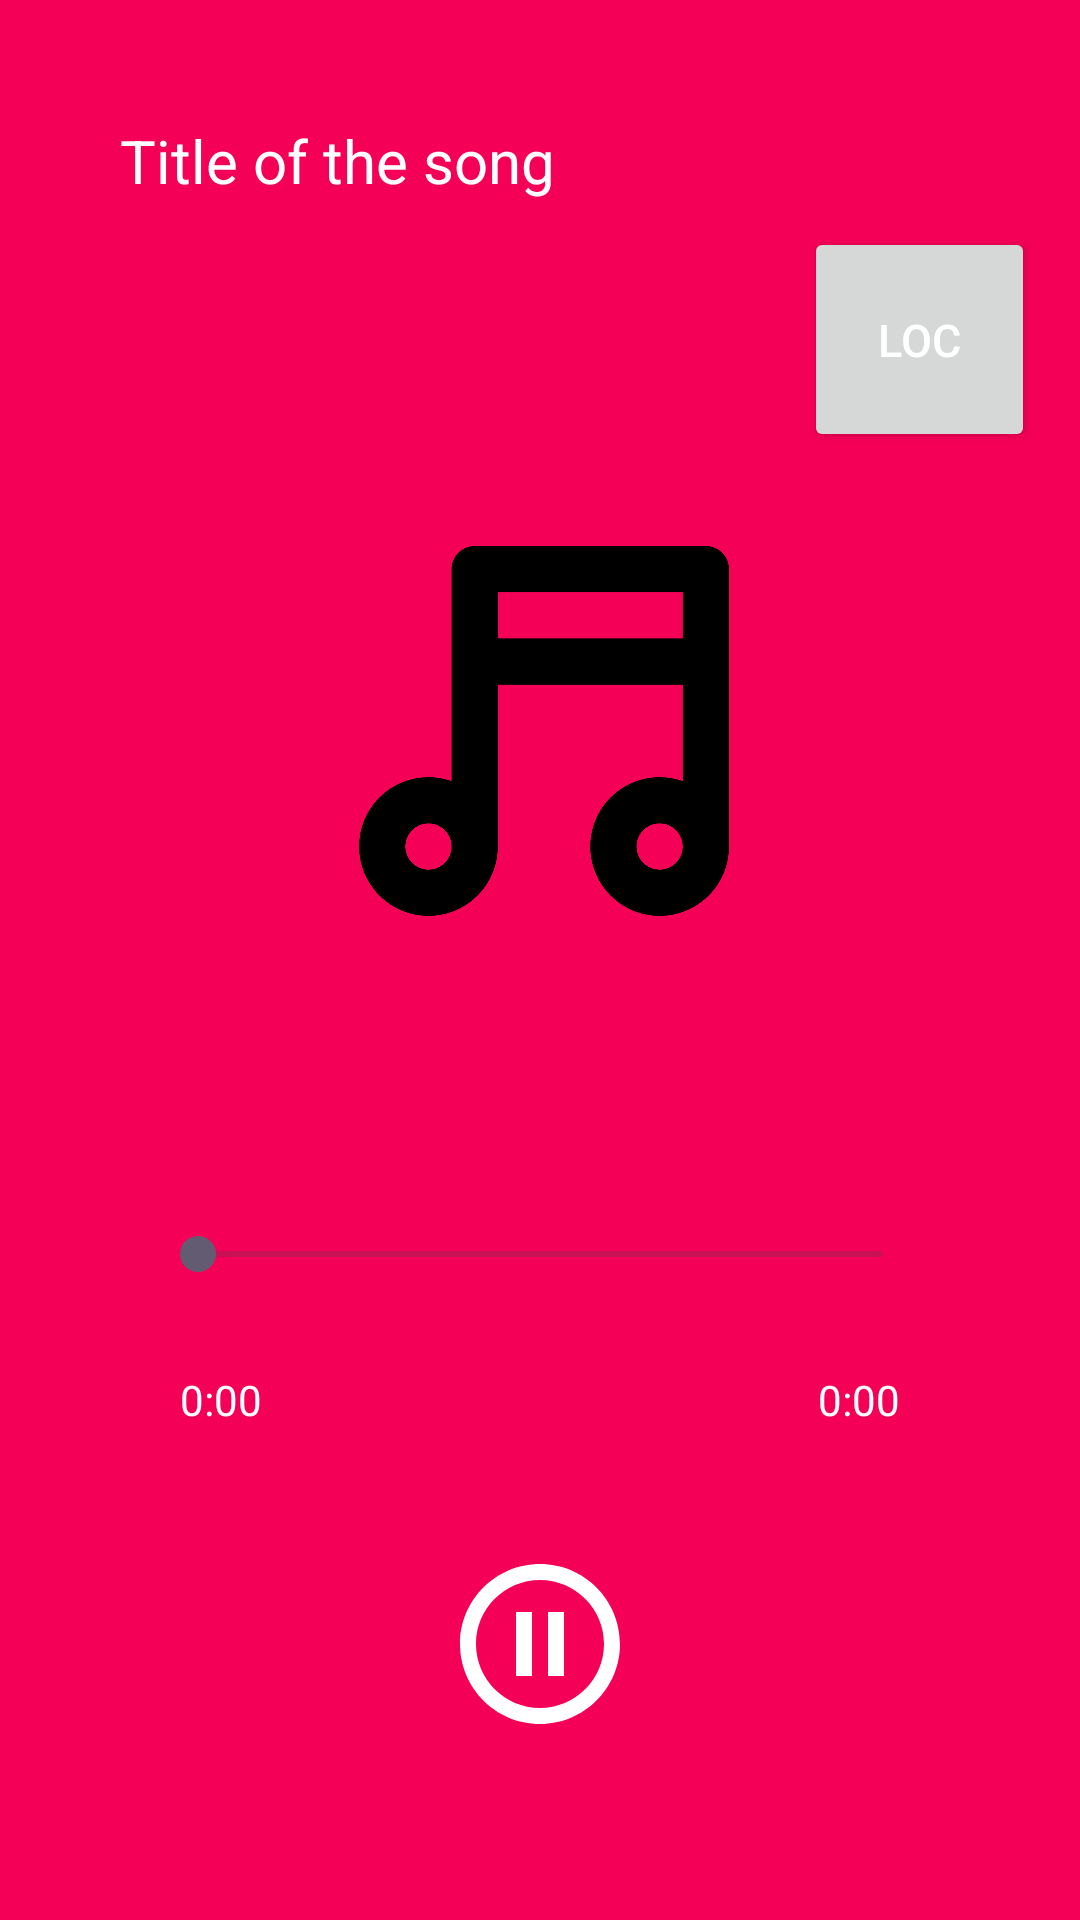

Screen size 1080 x 1920. Icon name, then its center in pixels as point (x, y):
pause circle: point (539, 1644)
